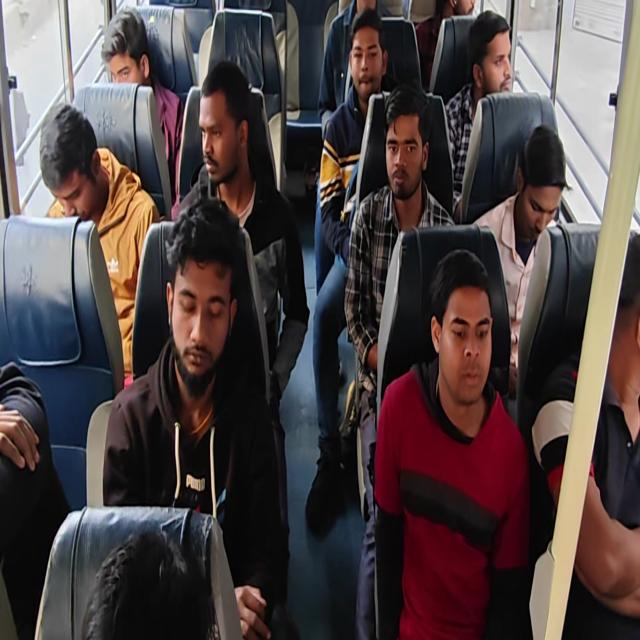person: (2, 1, 638, 638), (102, 197, 286, 638), (169, 60, 310, 542), (343, 80, 456, 638), (372, 247, 533, 638), (305, 7, 395, 536), (531, 227, 639, 637), (39, 103, 160, 387), (472, 123, 572, 400), (0, 360, 71, 638), (100, 7, 185, 207), (81, 528, 215, 638), (444, 10, 514, 216), (317, 0, 394, 141), (414, 0, 476, 91)
